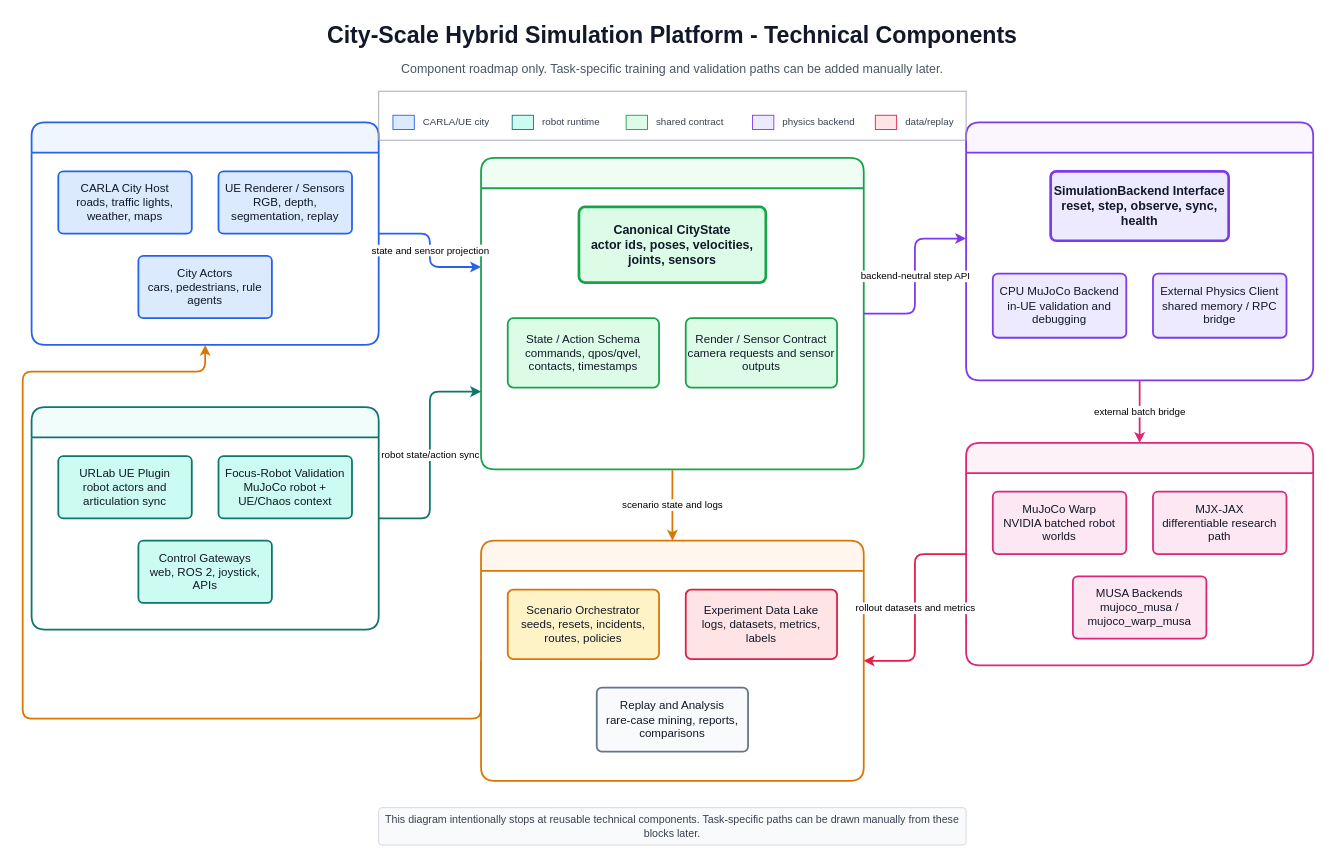
Some shapes in this 1329 by 861 pixel diagram are drawn without their labels. The shapes that lost their labels are listed below. From the top down, each one's box as (x1, y1, x2, y2) in pixels, then its label:
(378, 90, 966, 140): Legend
(30, 121, 379, 345): CARLA / Unreal City Runtime
(965, 121, 1314, 381): Physics Backend Adapter Layer
(480, 157, 864, 470): Shared Runtime Contract
(30, 406, 379, 630): URLab Robot Runtime
(965, 441, 1314, 666): External GPU Training Backends
(480, 539, 864, 781): Scenario, Data, and Replay
